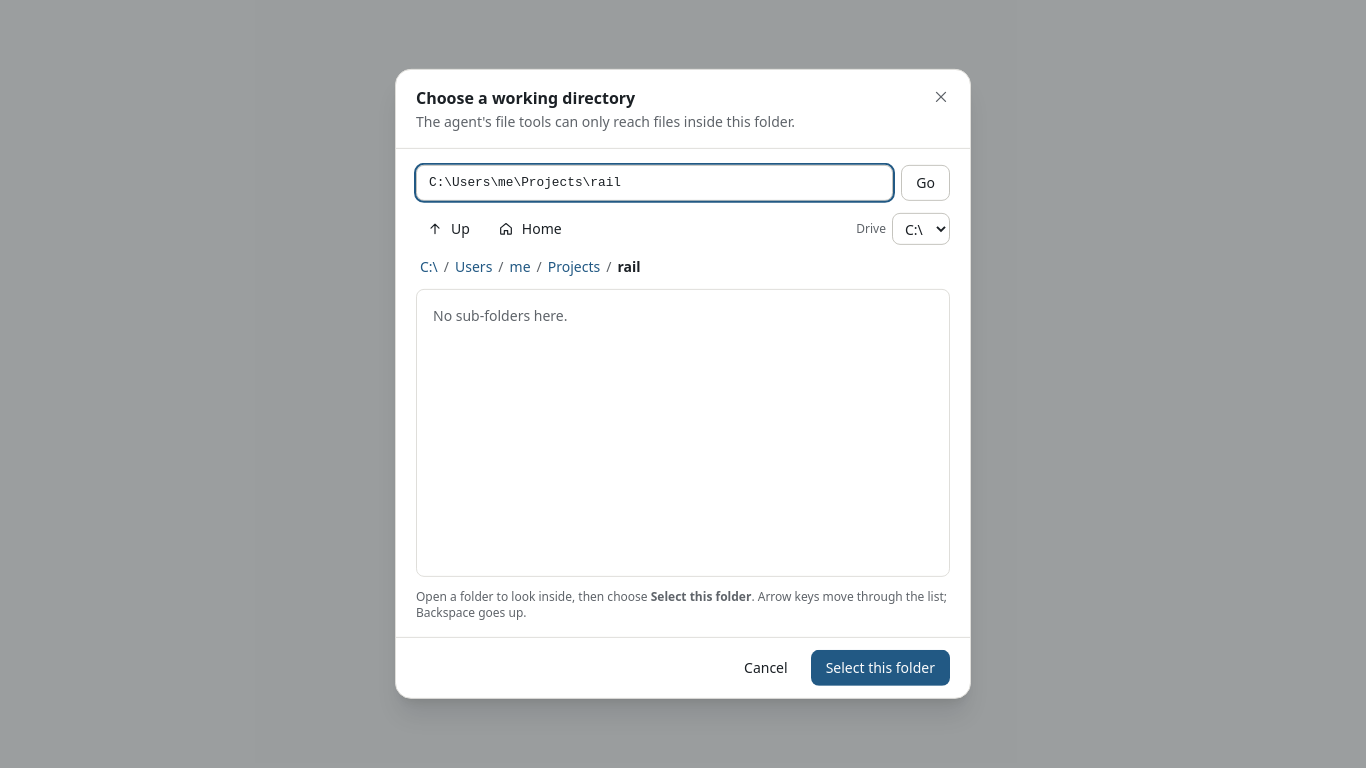
Test case: FolderPickerDialog › goes up, home and through breadcrumbs
The width and height of the screenshot is (1366, 768).
Expected: the text "rail" is shown, [618, 257, 641, 276]
Expected: the text "No sub-folders here." is shown, [433, 306, 568, 325]
Step 1. Click the button named "Up to parent folder" → coordinates (448, 229), box [416, 213, 481, 245]
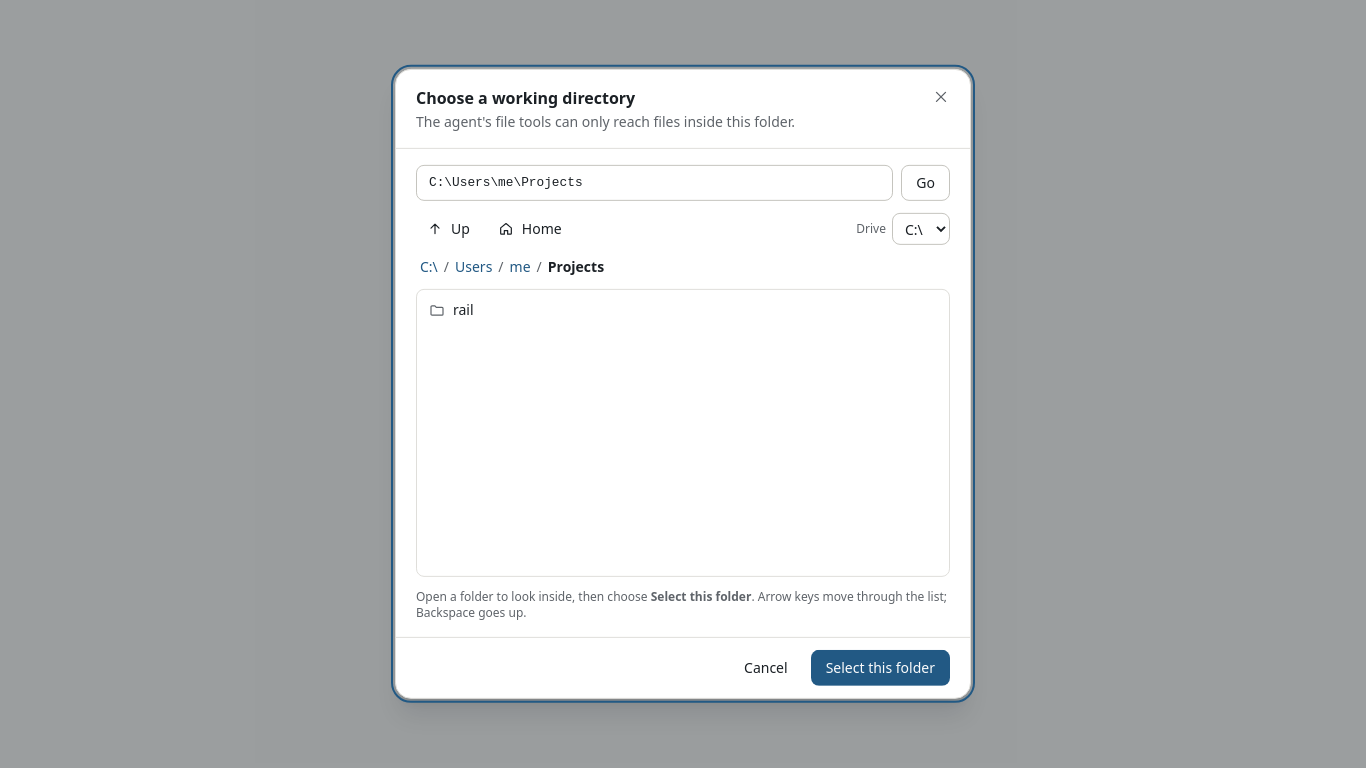
Expected: the text "Projects" is shown, [544, 257, 608, 277]
Step 2. Click the button "Users" → coordinates (474, 267), box [451, 257, 496, 277]
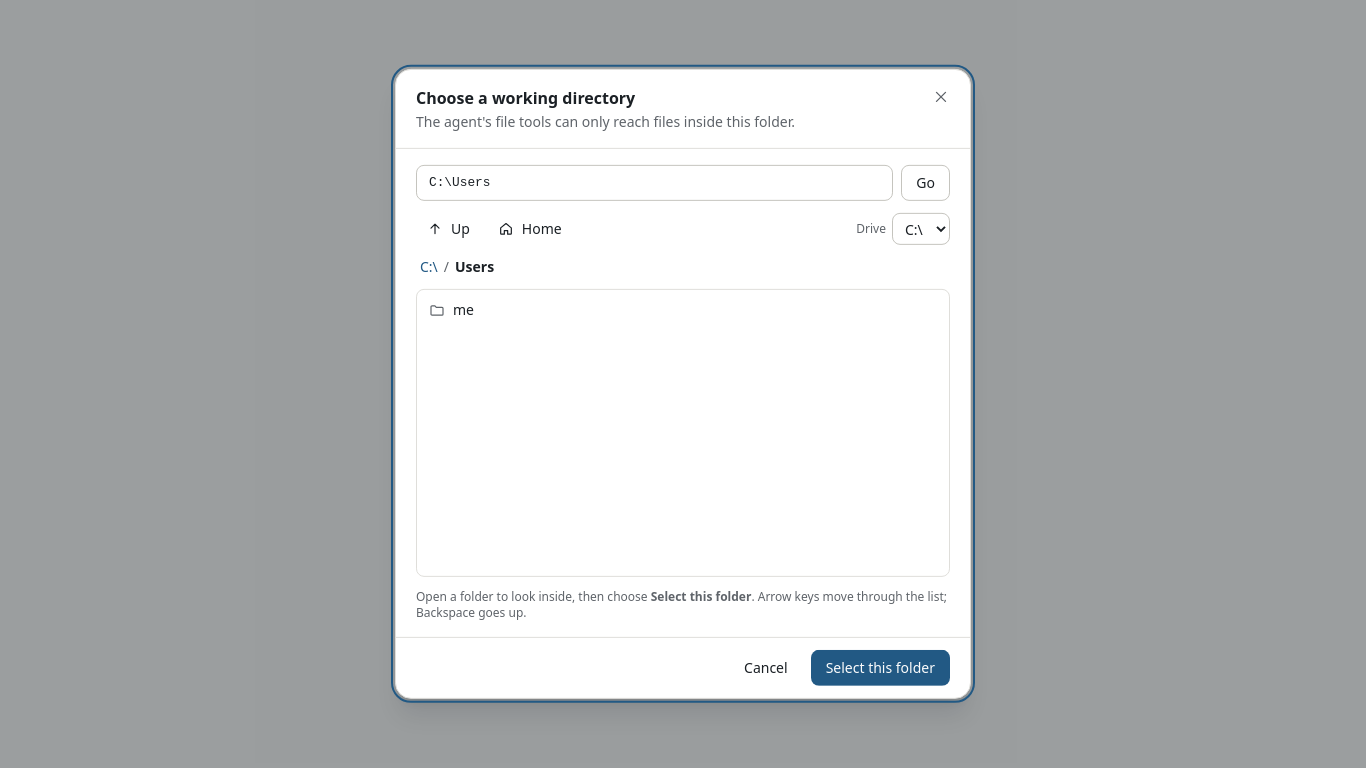
Now the text "Users" is shown, box [455, 257, 494, 276]
Step 3. Click the button "Home" → coordinates (530, 229), box [487, 213, 573, 245]
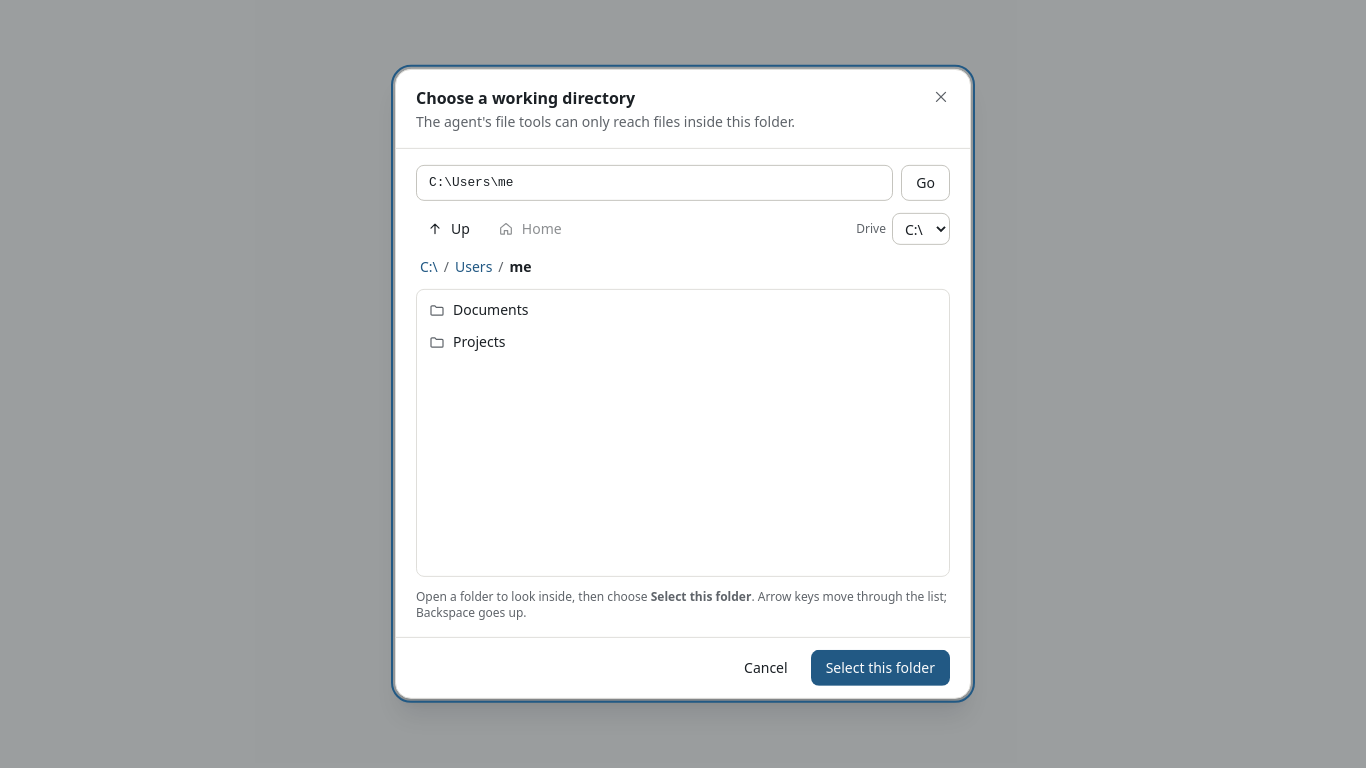
Now the text "me" is shown, box [510, 257, 532, 276]
Now the button "Home" is disabled, box [487, 213, 573, 245]
